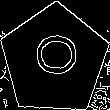O_W: (29, 38, 80, 83)
